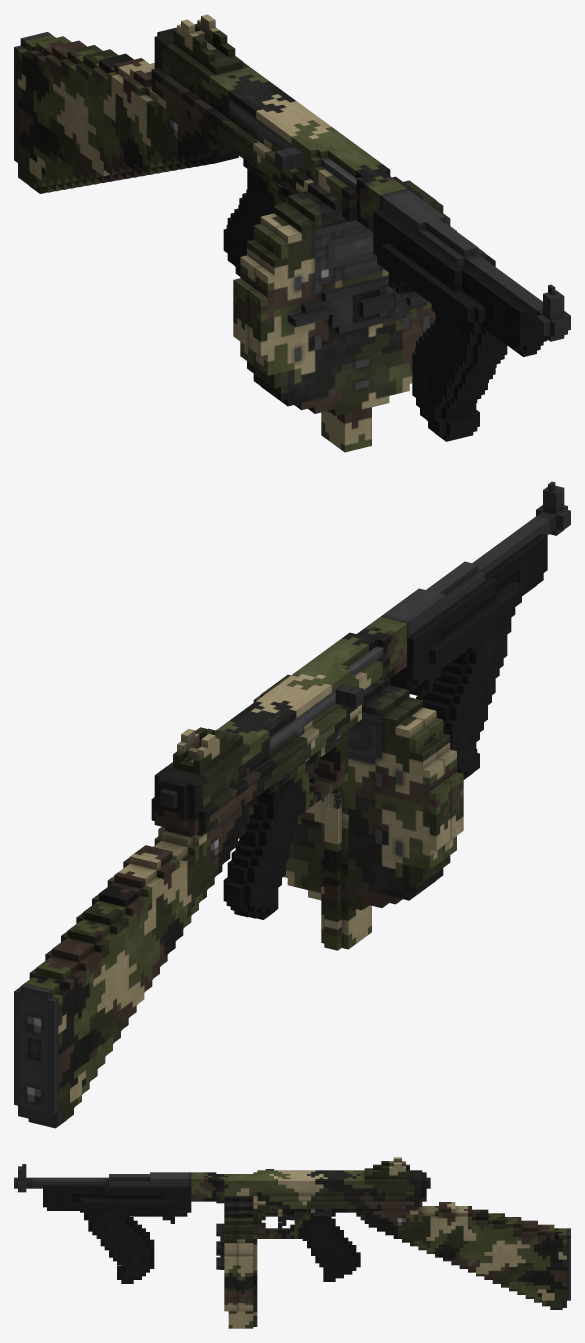
Rendered from RD_M1A1_MILITARY1945.glb.
The picture shows the model from 3 angles, top to bottom: view 1: azimuth 30°, elevation 25°; view 2: azimuth 150°, elevation 25°; view 3: azimuth 270°, elevation 25°; orthographic projection. The views are drawn at different scales.
Parts seen in each view (by area): view 1: M1A1, M1A1_CLIP2, M1A1_GRIP1, M1A1_GRIP0, M1A1_CLIP, M1A1_BOLT; view 2: M1A1, M1A1_CLIP2, M1A1_GRIP1, M1A1_GRIP0, M1A1_CLIP; view 3: M1A1, M1A1_GRIP1, M1A1_CLIP2, M1A1_GRIP0, M1A1_CLIP.
Part boxes in pixels (x1,y1,x2,y2): M1A1: (14, 14, 570, 341); M1A1_CLIP2: (233, 176, 456, 415); M1A1_GRIP1: (382, 243, 507, 441); M1A1_GRIP0: (373, 209, 547, 356); M1A1_CLIP: (321, 407, 371, 452); M1A1_BOLT: (275, 147, 302, 171); M1A1: (14, 481, 570, 1128); M1A1_CLIP2: (253, 674, 463, 910); M1A1_GRIP1: (409, 582, 521, 779); M1A1_GRIP0: (390, 533, 547, 691); M1A1_CLIP: (321, 785, 371, 950); M1A1: (14, 1157, 570, 1309); M1A1_GRIP1: (80, 1198, 174, 1283); M1A1_CLIP2: (216, 1196, 253, 1311); M1A1_GRIP0: (43, 1185, 191, 1216); M1A1_CLIP: (228, 1239, 257, 1328).
Bounding box in the file's own units: 0.2953 × 0.4331 × 1.33.
1 material, 1 textured.
